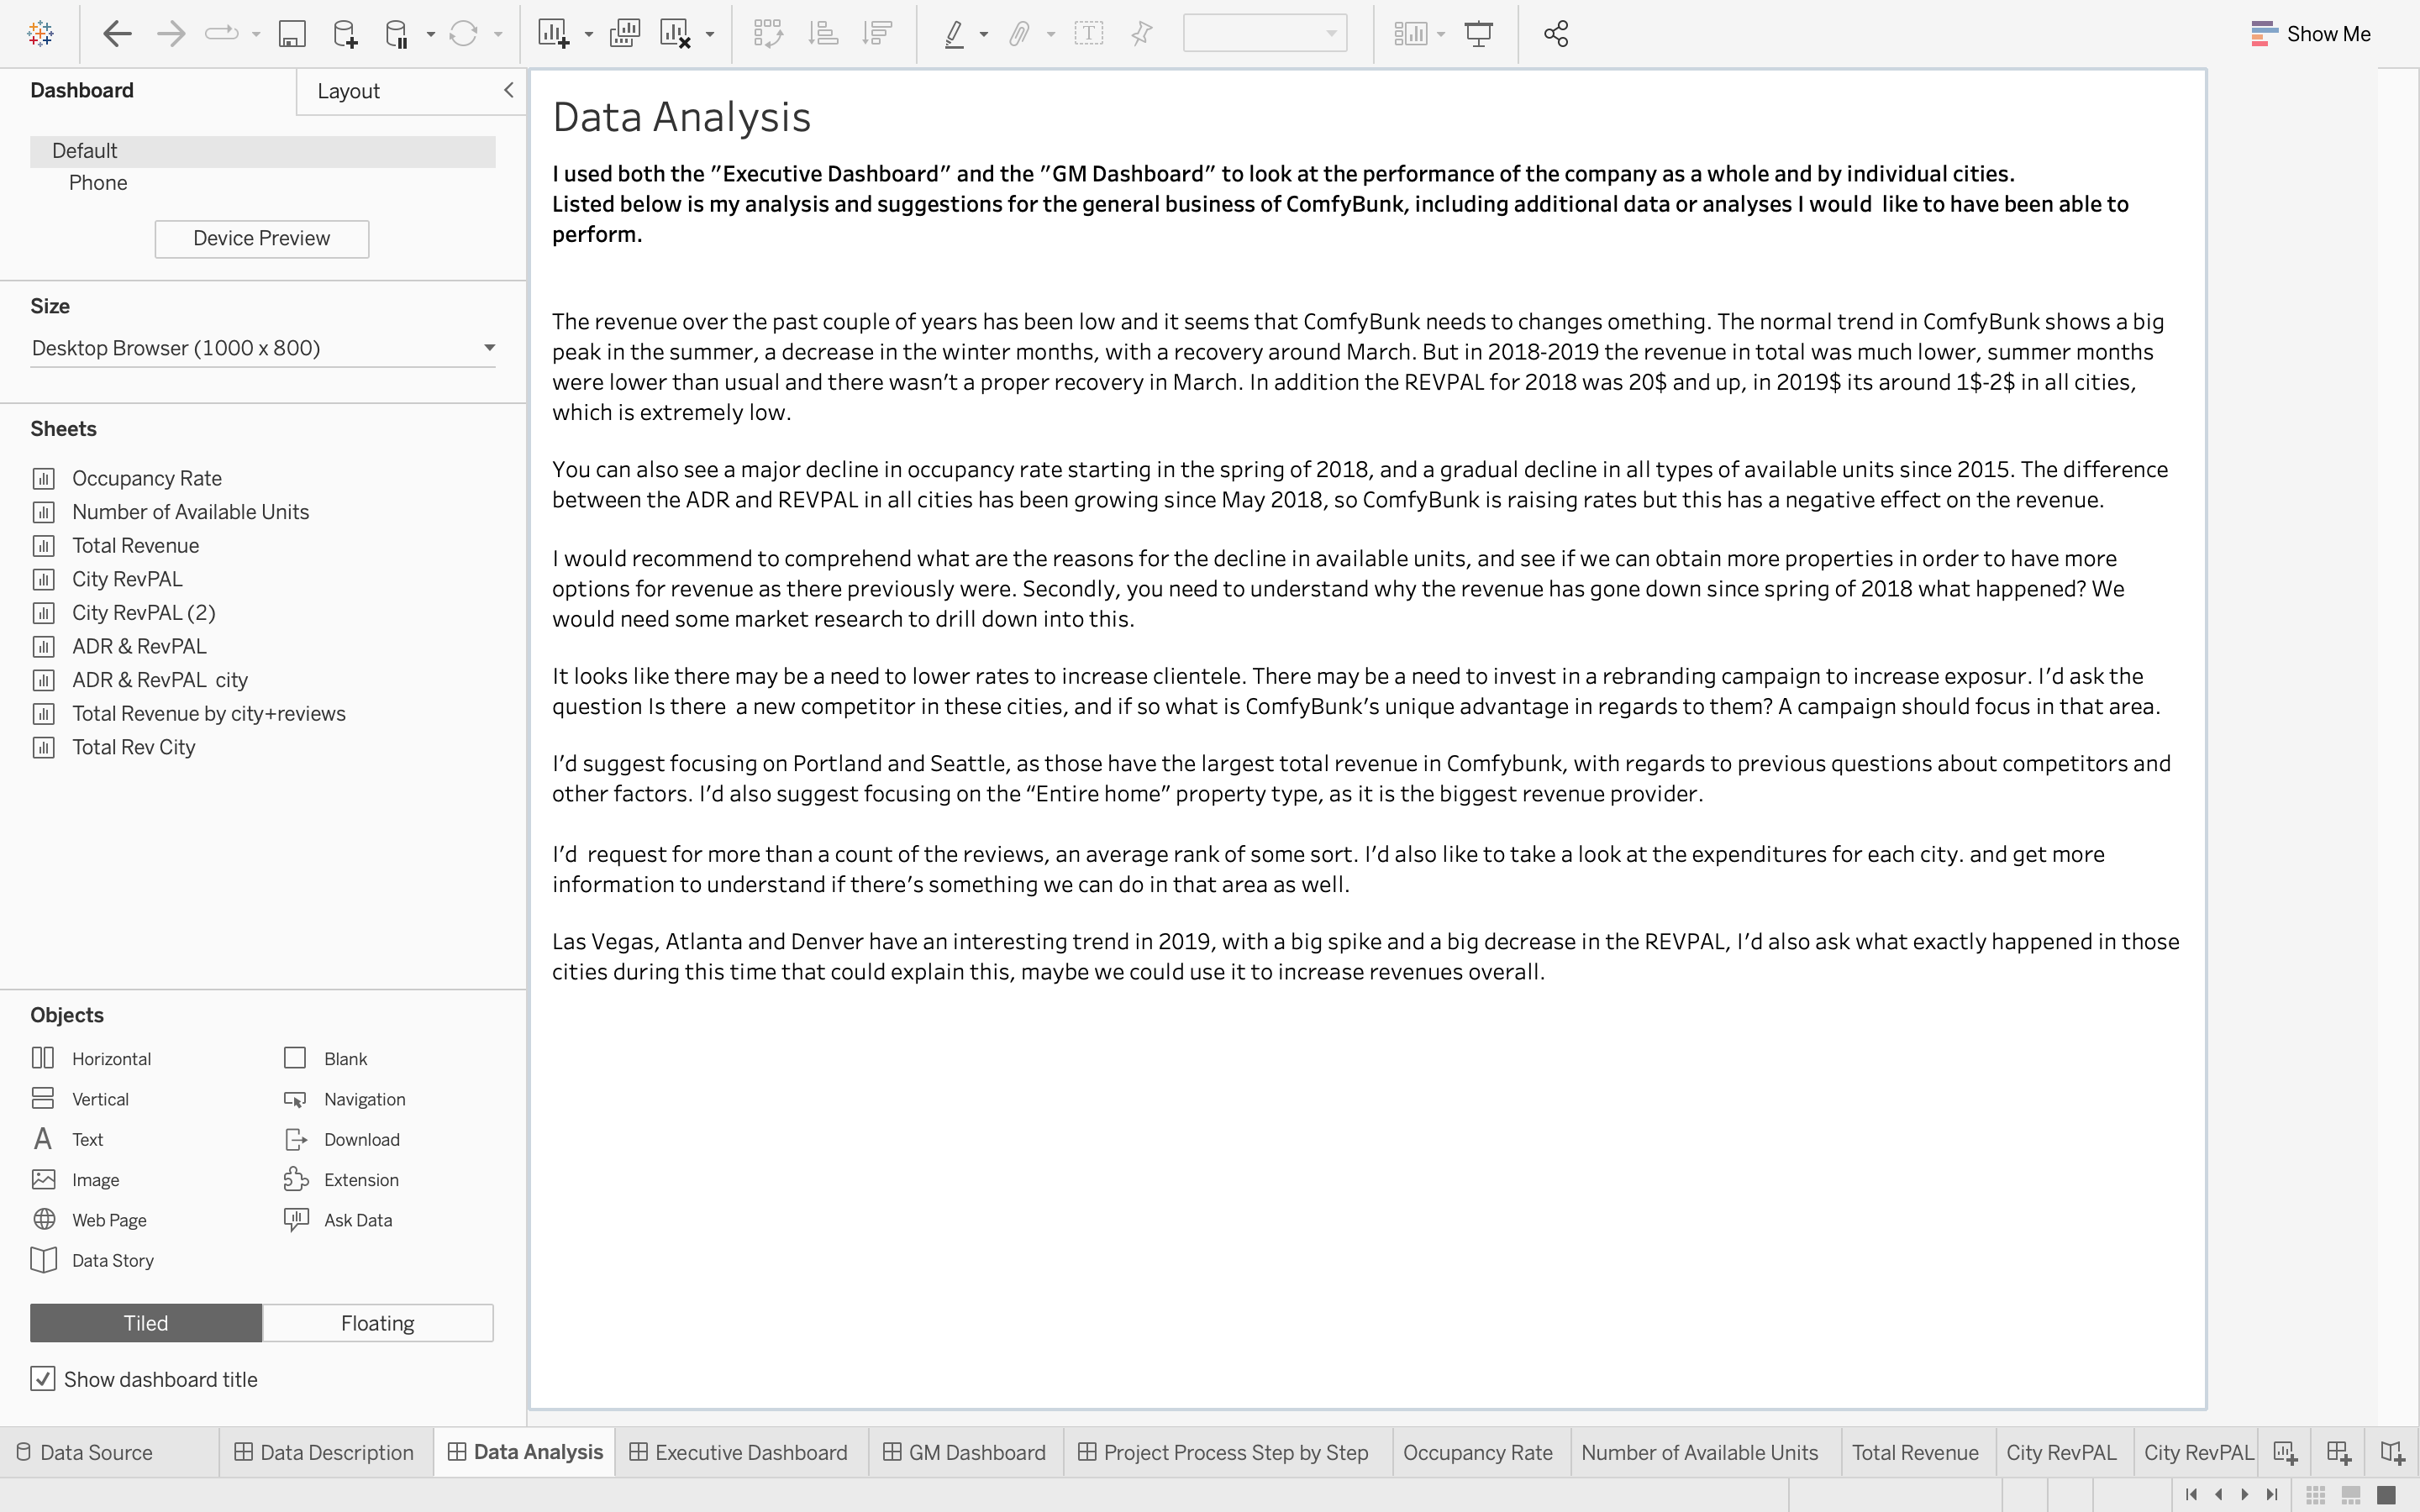

The page's visual inventory and layout, read from the dashboard file:
{"tool":"tableau","page":{"name":"Data Analysis","canvas":[1000,800],"ordinal":0},"visuals":[{"type":"title","box":[8,8,984,42]},{"type":"text","box":[8,50,984,88]},{"type":"text","box":[8,138,984,654]}]}

Visuals, with their boxes on the page's 1000x800 design canvas (x1, y1, x2, y2). These are canvas units, not pixel positions in the 2420x1512 screenshot, which may show the page scaled, cropped or inside an application window:
title: pyautogui.locateOnScreen(8, 8, 992, 50)
text: pyautogui.locateOnScreen(8, 50, 992, 138)
text: pyautogui.locateOnScreen(8, 138, 992, 792)
